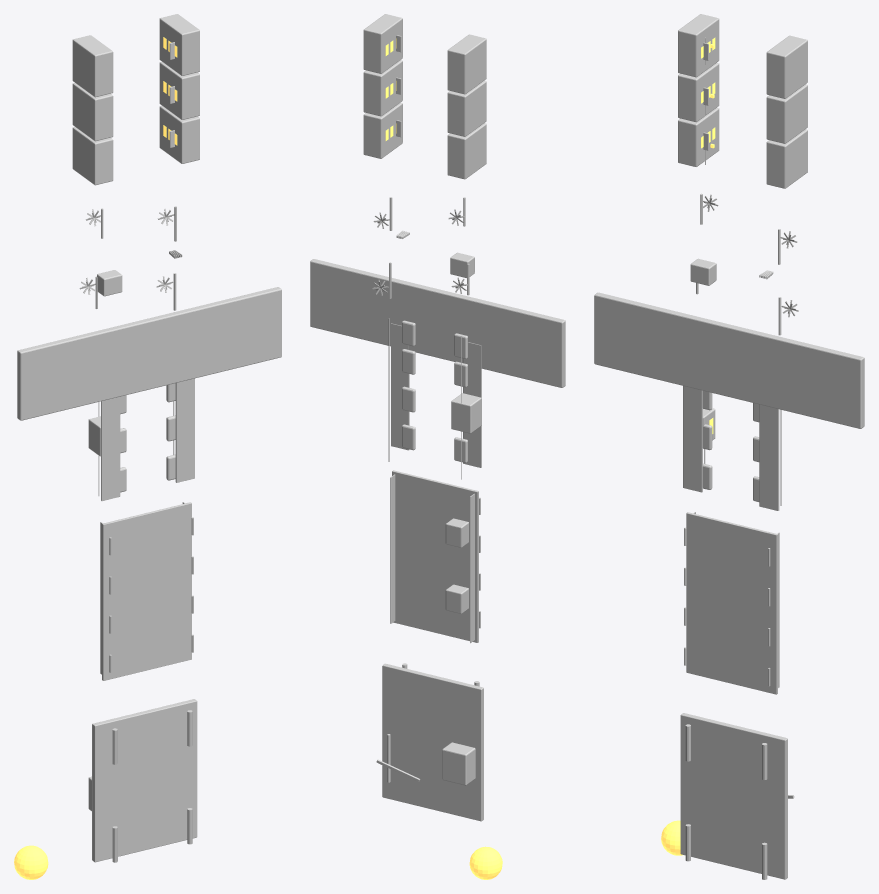
Rendered from ventura_pier_pressure_environment.glb.
3 views of the same model, side by side, from view 1: azimuth 30°, elevation 25°; view 2: azimuth 150°, elevation 25°; view 3: azimuth 330°, elevation 25° (orthographic). The views are drawn at different scales.
Visible parts, largest first — view 1: MAT_ocean_horizon__PacificHorizon, MAT_salt_steel__OffshoreDeck, MAT_timber_pier__VenturaPierDeck, MAT_warm_concrete__AlleyFacade_-1_0, MAT_timber_pier__Dock_-1, MAT_timber_pier__Dock_1, MAT_warm_concrete__AlleyFacade_1_0, MAT_warm_concrete__AlleyFacade_-1_2, MAT_warm_concrete__AlleyFacade_-1_1, MAT_warm_concrete__AlleyFacade_1_2, MAT_warm_concrete__AlleyFacade_1_1, MAT_coastal_warm__SunsetLandmark (+1 smaller); view 2: MAT_ocean_horizon__PacificHorizon, MAT_salt_steel__OffshoreDeck, MAT_timber_pier__VenturaPierDeck, MAT_warm_concrete__AlleyFacade_-1_0, MAT_warm_concrete__AlleyFacade_1_0, MAT_warm_concrete__AlleyFacade_-1_2, MAT_warm_concrete__AlleyFacade_-1_1, MAT_timber_pier__Dock_1, MAT_warm_concrete__AlleyFacade_1_2, MAT_warm_concrete__AlleyFacade_1_1, MAT_timber_pier__Dock_-1, MAT_weathered_metal__PlatformControl (+7 smaller); view 3: MAT_ocean_horizon__PacificHorizon, MAT_salt_steel__OffshoreDeck, MAT_timber_pier__VenturaPierDeck, MAT_warm_concrete__AlleyFacade_1_0, MAT_timber_pier__Dock_1, MAT_timber_pier__Dock_-1, MAT_warm_concrete__AlleyFacade_-1_0, MAT_warm_concrete__AlleyFacade_1_1, MAT_warm_concrete__AlleyFacade_1_2, MAT_warm_concrete__AlleyFacade_-1_2, MAT_warm_concrete__AlleyFacade_-1_1, MAT_warm_concrete__LifeguardTower (+1 smaller).
Part boxes in pixels (x1,y1,x2,y2): MAT_ocean_horizon__PacificHorizon: (17, 287, 281, 420); MAT_salt_steel__OffshoreDeck: (92, 699, 197, 862); MAT_timber_pier__VenturaPierDeck: (102, 502, 191, 680); MAT_warm_concrete__AlleyFacade_-1_0: (72, 35, 113, 97); MAT_timber_pier__Dock_-1: (101, 397, 120, 500); MAT_timber_pier__Dock_1: (175, 378, 194, 482); MAT_warm_concrete__AlleyFacade_1_0: (159, 14, 199, 75); MAT_warm_concrete__AlleyFacade_-1_2: (72, 127, 113, 185); MAT_warm_concrete__AlleyFacade_-1_1: (72, 83, 113, 141); MAT_warm_concrete__AlleyFacade_1_2: (159, 106, 199, 163); MAT_warm_concrete__AlleyFacade_1_1: (159, 62, 199, 119); MAT_coastal_warm__SunsetLandmark: (14, 845, 48, 879); MAT_ocean_horizon__PacificHorizon: (310, 259, 565, 387); MAT_salt_steel__OffshoreDeck: (382, 663, 483, 821); MAT_timber_pier__VenturaPierDeck: (392, 470, 478, 642); MAT_warm_concrete__AlleyFacade_-1_0: (447, 34, 486, 94); MAT_warm_concrete__AlleyFacade_1_0: (363, 14, 402, 73); MAT_warm_concrete__AlleyFacade_-1_2: (447, 123, 486, 179); MAT_warm_concrete__AlleyFacade_-1_1: (447, 80, 486, 136); MAT_timber_pier__Dock_1: (391, 323, 409, 450); MAT_warm_concrete__AlleyFacade_1_2: (363, 102, 402, 158); MAT_warm_concrete__AlleyFacade_1_1: (363, 60, 402, 116); MAT_timber_pier__Dock_-1: (463, 342, 481, 467); MAT_weathered_metal__PlatformControl: (442, 742, 475, 785); MAT_ocean_horizon__PacificHorizon: (594, 292, 864, 428); MAT_salt_steel__OffshoreDeck: (680, 713, 787, 879); MAT_timber_pier__VenturaPierDeck: (686, 512, 777, 694); MAT_warm_concrete__AlleyFacade_1_0: (766, 35, 807, 98); MAT_timber_pier__Dock_1: (759, 404, 779, 510); MAT_timber_pier__Dock_-1: (683, 386, 702, 492); MAT_warm_concrete__AlleyFacade_-1_0: (678, 14, 719, 77); MAT_warm_concrete__AlleyFacade_1_1: (766, 84, 807, 143); MAT_warm_concrete__AlleyFacade_1_2: (766, 129, 807, 188); MAT_warm_concrete__AlleyFacade_-1_2: (678, 107, 719, 166); MAT_warm_concrete__AlleyFacade_-1_1: (678, 63, 719, 122); MAT_warm_concrete__LifeguardTower: (690, 258, 716, 285).
Bounding box in the file's own units: 56 × 172 × 17.5.
